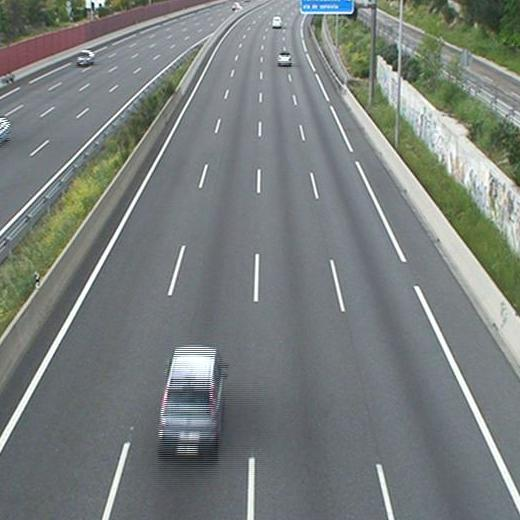car: (159, 342, 224, 462), (277, 51, 292, 68), (271, 15, 282, 28)
